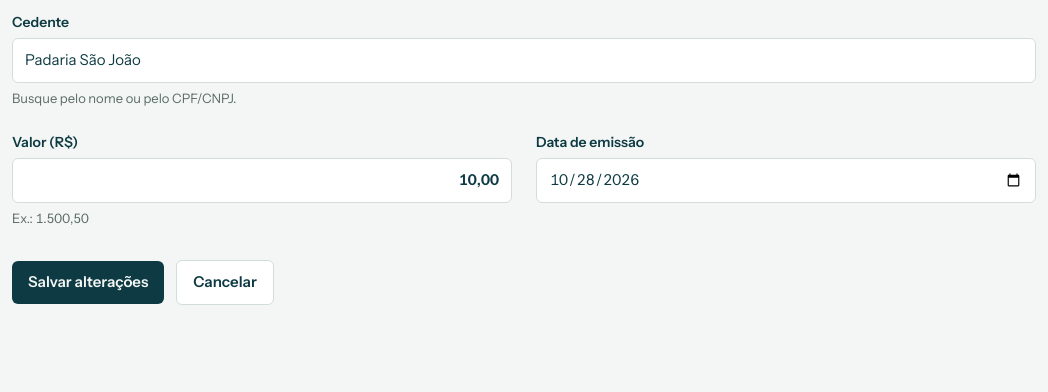
PayableForm › mostra os erros que vieram da API
Click the button "Salvar alterações" at (88, 282), box [12,261,164,304]
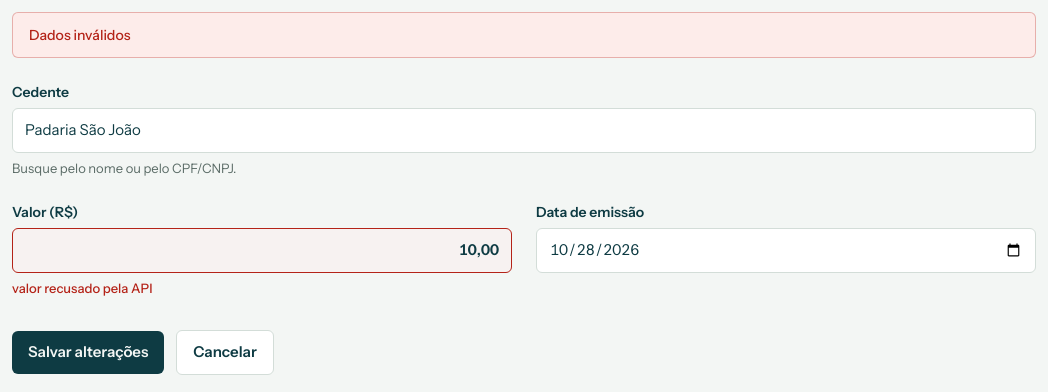
Check: the text "valor recusado pela API" is shown, box [12,280,152,296]
Check: the text "Dados inválidos" is shown, box [12,12,1036,58]
